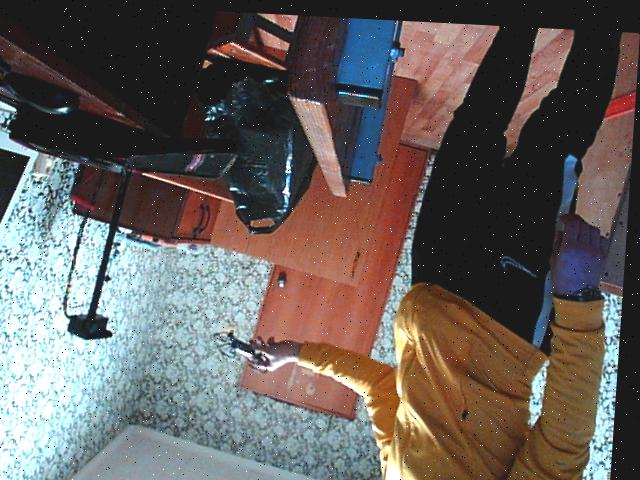drone: (215, 322, 288, 374)
